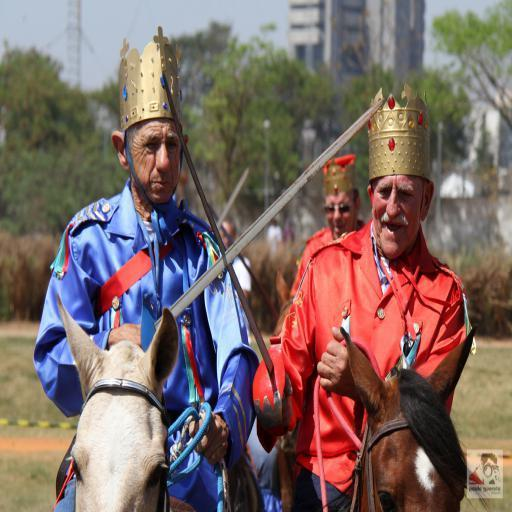horse: (318, 322, 478, 511), (56, 294, 180, 512)
